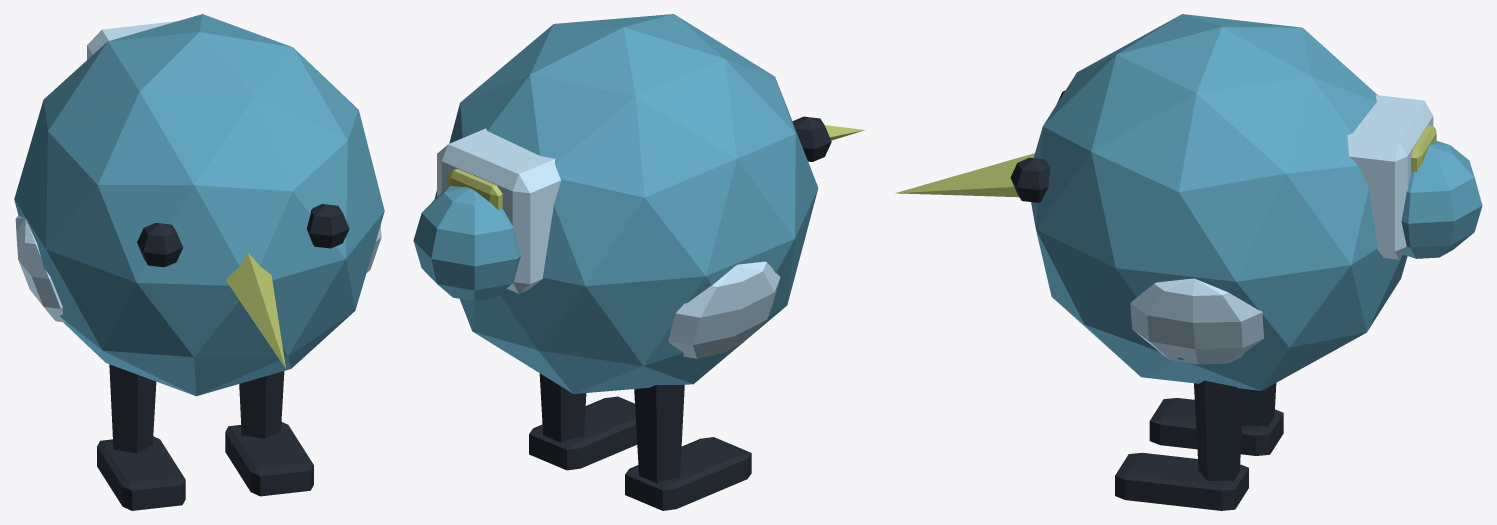
File: bird-ice-1.glb
The picture shows the model from 3 angles, left to right: view 1: azimuth 30°, elevation 25°; view 2: azimuth 150°, elevation 25°; view 3: azimuth 270°, elevation 25°; orthographic projection. The views are drawn at different scales.
Parts seen in each view (by area): view 1: bird-ice-1; view 2: bird-ice-1; view 3: bird-ice-1.
Boxes of the visible parts, x1,y1,x2,y2 form: bird-ice-1: (14, 14, 384, 510); bird-ice-1: (413, 14, 864, 510); bird-ice-1: (895, 14, 1482, 510).
Bounding box in the file's own units: 0.5382 × 0.7 × 0.8429.
